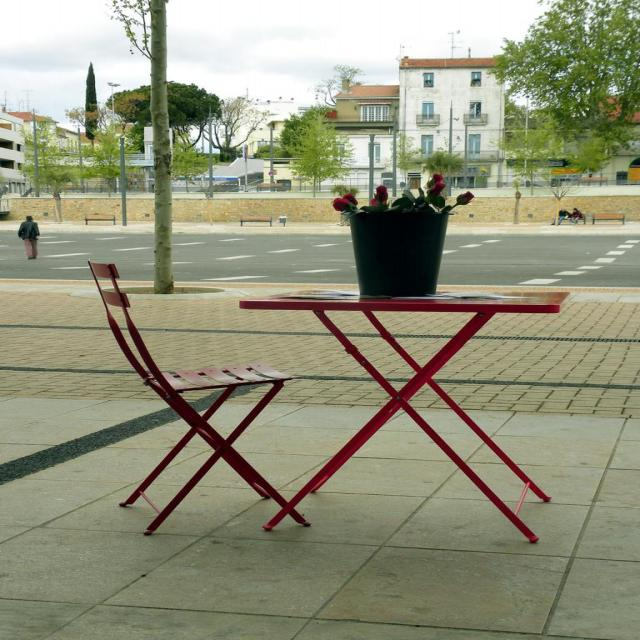Table: (255, 287, 578, 537)
